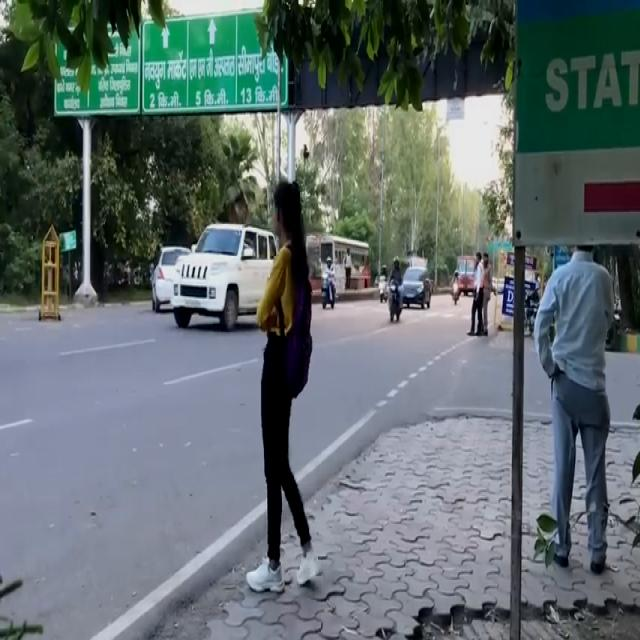MOTORCYCLE: (319, 270, 339, 306), (390, 281, 400, 324)
SUV: (173, 218, 281, 327)
